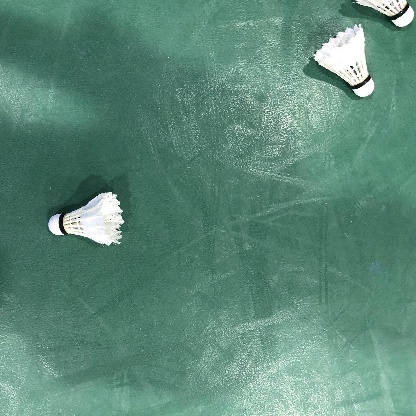ball_single: (314, 24, 374, 97), (48, 192, 124, 245), (354, 0, 414, 27)
